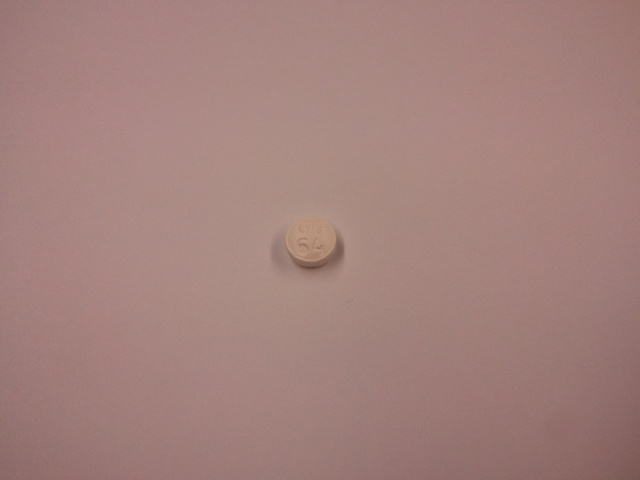4: (311, 234, 328, 259)
6: (294, 235, 311, 259)
G: (295, 220, 311, 235), (312, 219, 327, 235)
